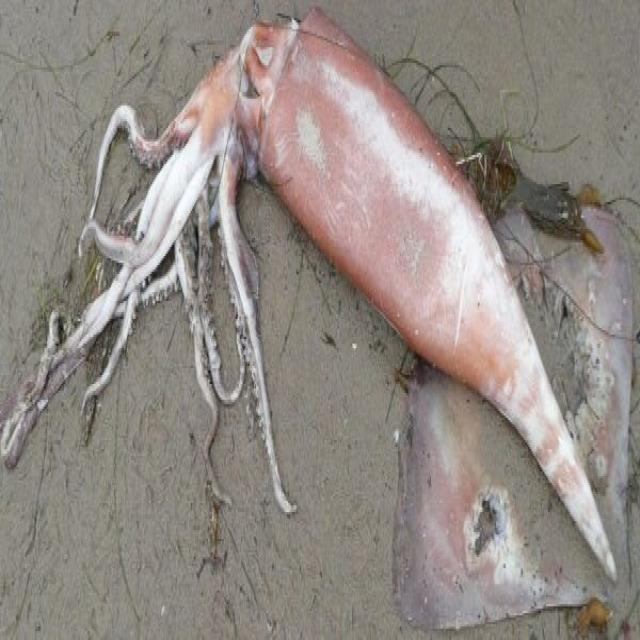SQUID: (9, 0, 626, 611)
